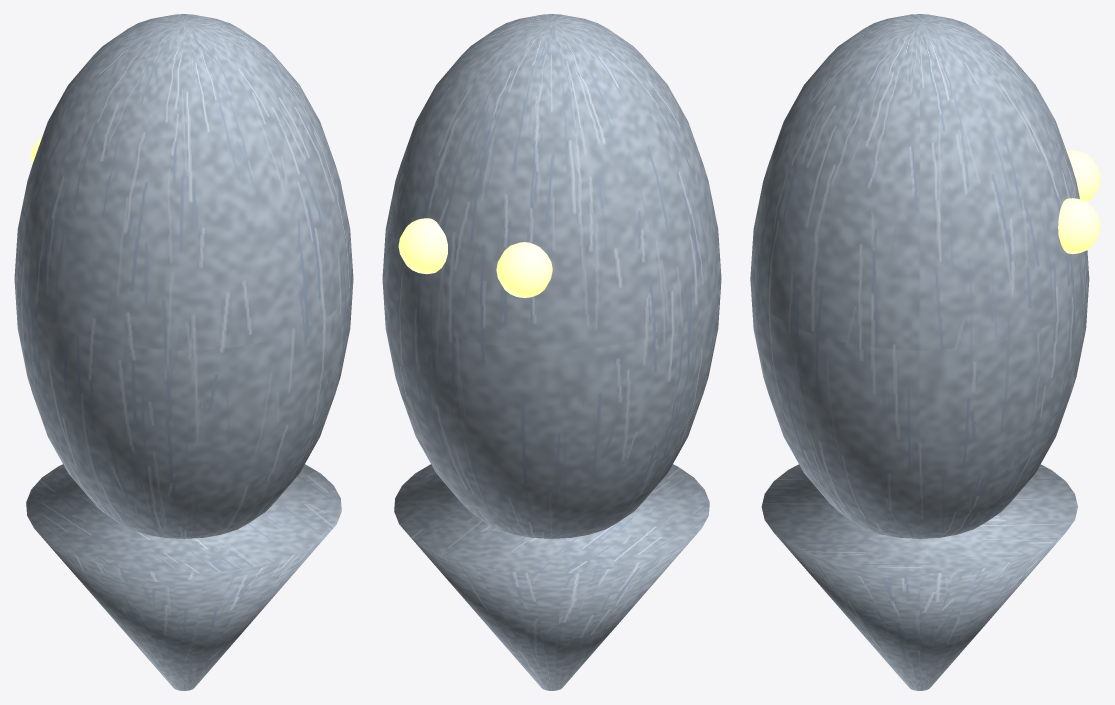
The model's file is phantom.glb.
3 views of the same model, side by side, from view 1: azimuth 30°, elevation 25°; view 2: azimuth 150°, elevation 25°; view 3: azimuth 270°, elevation 25° (orthographic).
Visible parts, largest first — view 1: Body, Tail; view 2: Body, Tail, Eye, Eye.001; view 3: Body, Tail, Eye.001, Eye.
Boxes of the visible parts, x1,y1,x2,y2 form: Body: (14, 14, 353, 538); Tail: (26, 464, 341, 690); Body: (382, 14, 721, 538); Tail: (394, 464, 709, 690); Eye: (496, 242, 552, 297); Eye.001: (398, 218, 447, 274); Body: (750, 14, 1089, 538); Tail: (761, 464, 1077, 690); Eye.001: (1058, 198, 1100, 254); Eye: (1066, 150, 1100, 201).
Bounding box in the file's own units: 0.4633 × 1 × 0.4788.
2 materials, 1 textured.
